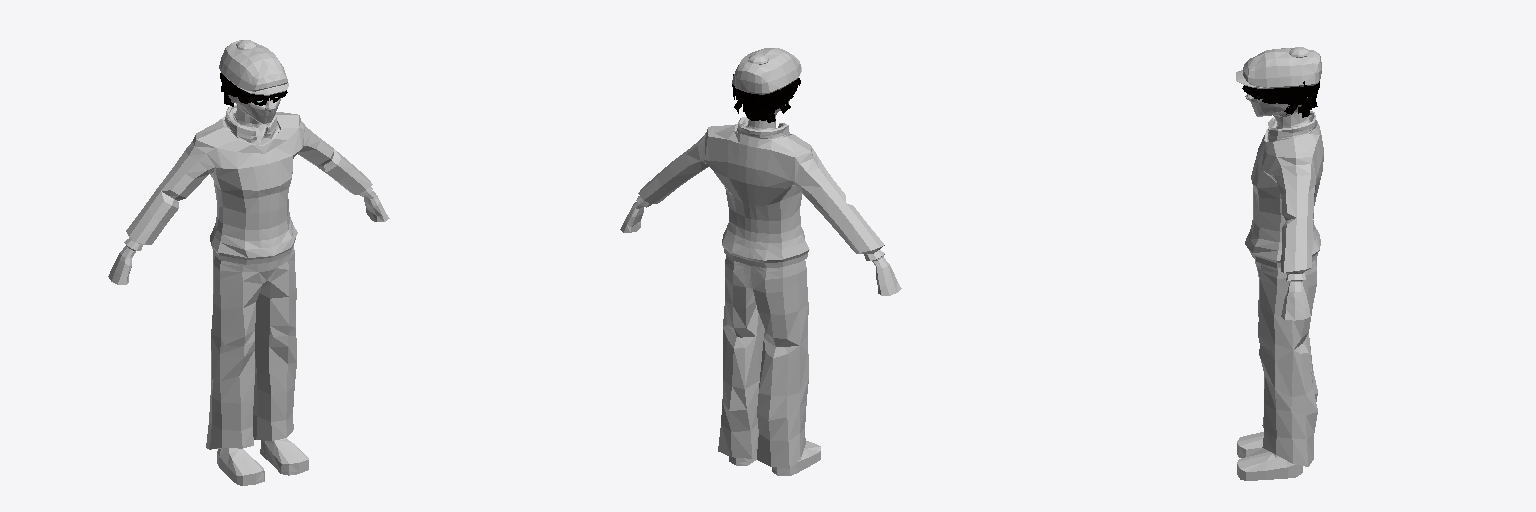
3 views of the same model, side by side, from view 1: azimuth 30°, elevation 25°; view 2: azimuth 150°, elevation 25°; view 3: azimuth 270°, elevation 25° (orthographic).
Visible parts, largest first — view 1: Cube.006; view 2: Cube.006; view 3: Cube.006.
Part boxes in pixels (x1,y1,x2,y2): Cube.006: (108, 40, 389, 485); Cube.006: (620, 48, 901, 475); Cube.006: (1236, 47, 1323, 480).
Size of the model in its own units: 3.62 by 5.24 by 1.01.
4 materials, 1 textured.